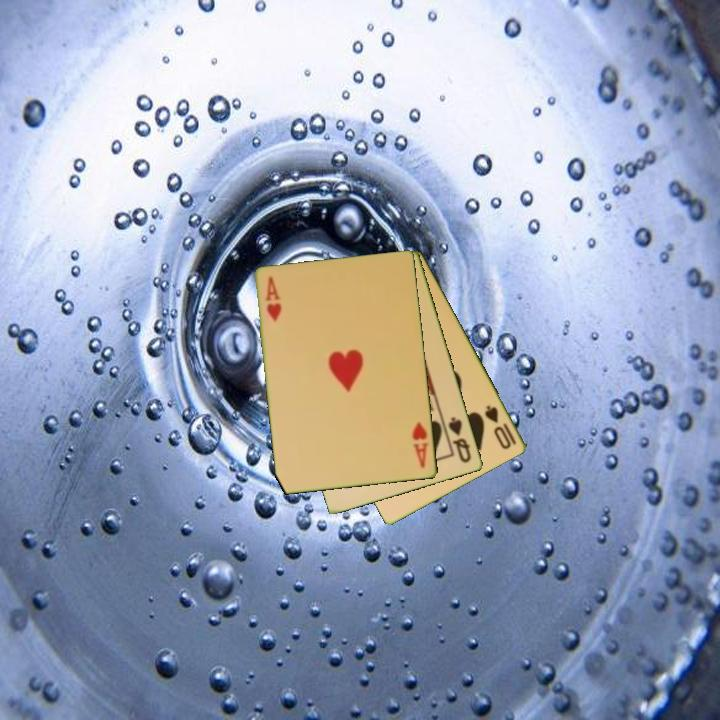10s: (481, 402, 520, 452)
Ah: (409, 419, 432, 471), (262, 273, 284, 325)
Qs: (445, 413, 474, 466)
